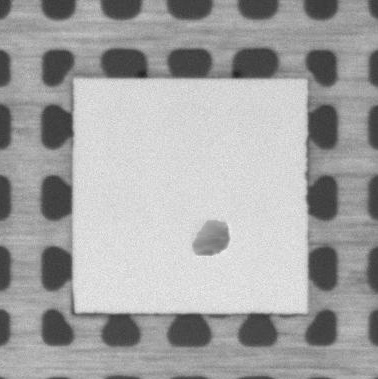DIE_INK: (190, 219, 231, 259)
